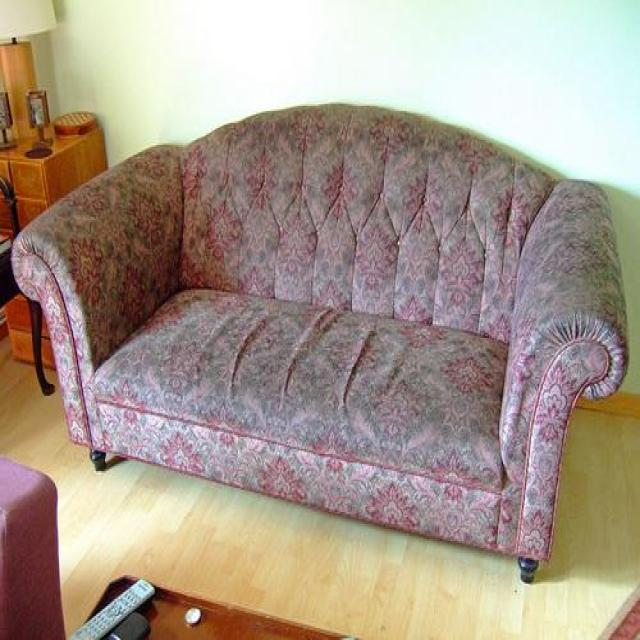sofa: (9, 101, 628, 582)
